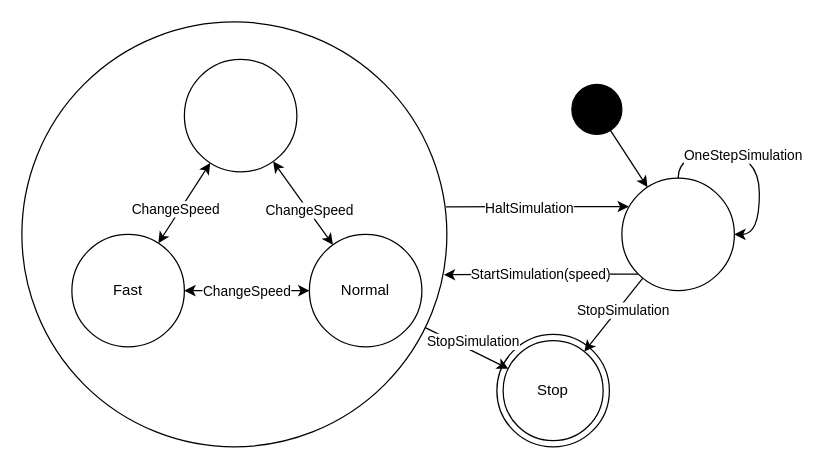
Image size: 824x469. Some labels were removed from this diagram. Each missing label, with the centre of its shape:
"Halt" belongs at (677,234).
"Slow" belongs at (240,115).
